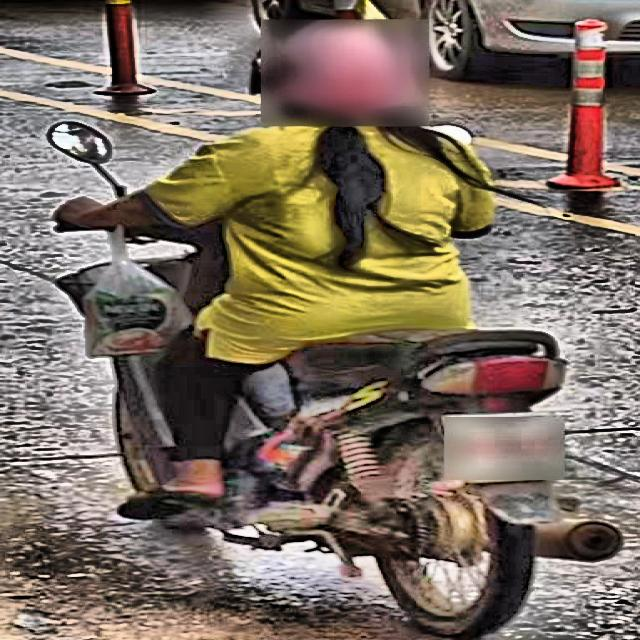motorcycle: (15, 104, 624, 640)
